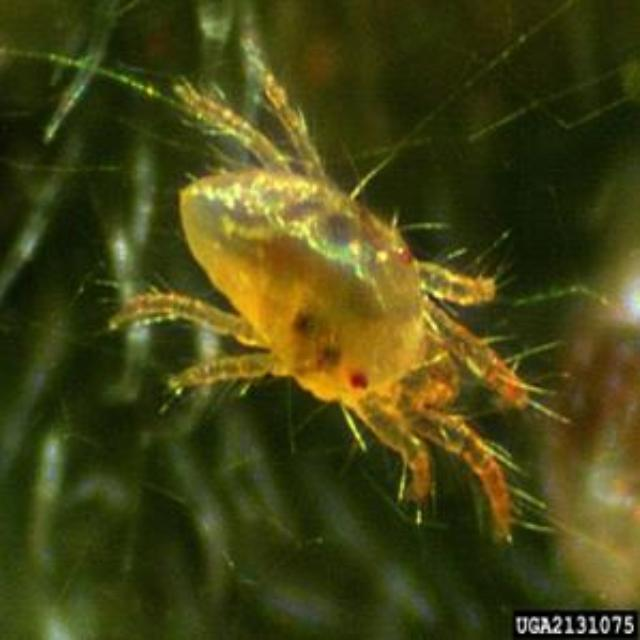spider mite: (77, 28, 556, 562)
